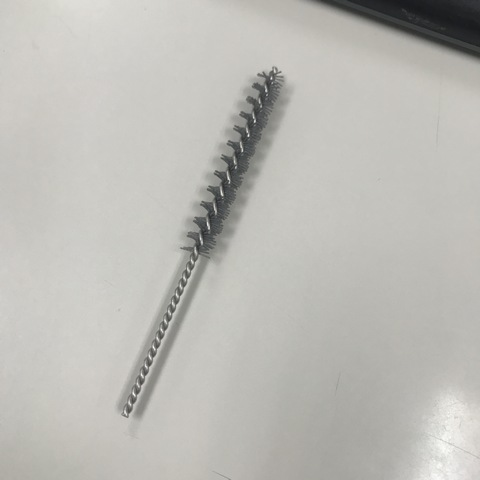Twist Brush-A: (116, 65, 289, 421)
